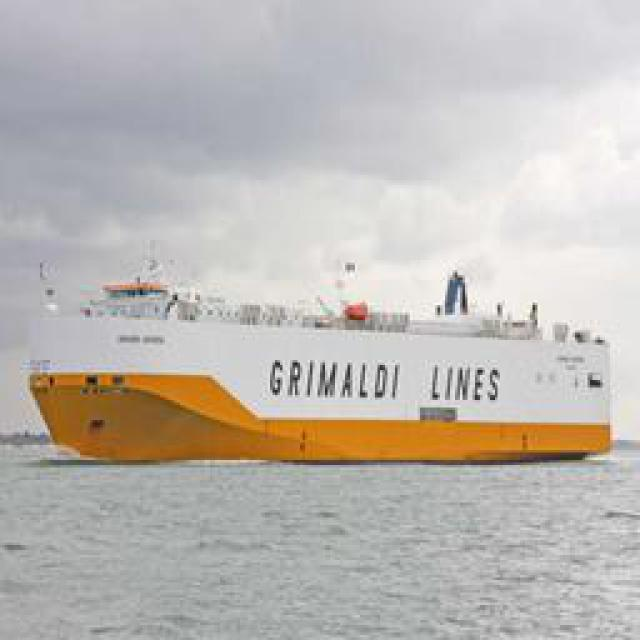Ship: (31, 255, 611, 468)
